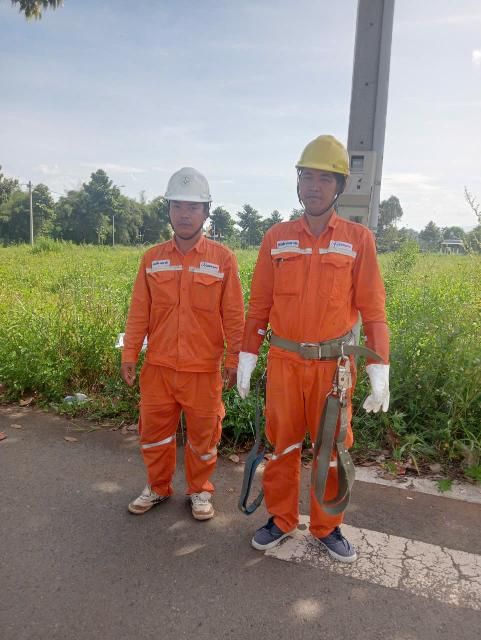gloves: (357, 356, 407, 410), (232, 346, 266, 400)
helmet: (148, 157, 226, 212), (289, 130, 362, 188)
shoes: (236, 502, 310, 561), (310, 516, 375, 580), (122, 475, 165, 521), (183, 480, 223, 525)
